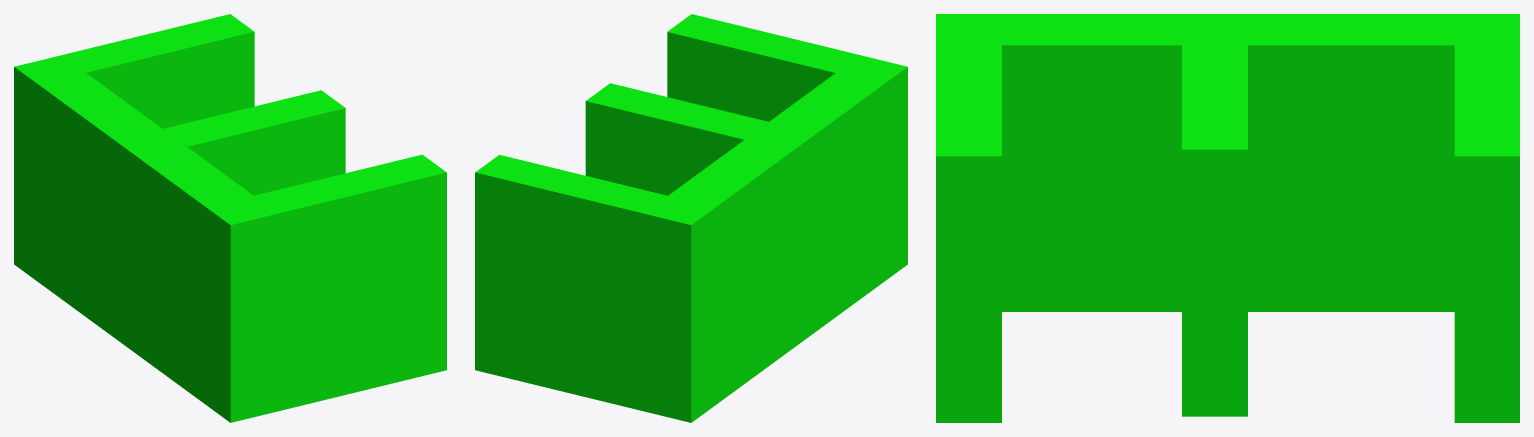
Rendered from Letter E1.obj.
3 views of the same model, side by side, from view 1: azimuth 30°, elevation 25°; view 2: azimuth 150°, elevation 25°; view 3: azimuth 270°, elevation 25° (orthographic). The views are drawn at different scales.
Visible parts, largest first — view 1: obj_0; view 2: obj_0; view 3: obj_0.
Part boxes in pixels (x1,y1,x2,y2): obj_0: (14, 14, 446, 422); obj_0: (475, 14, 907, 422); obj_0: (936, 14, 1519, 422).
Bounding box in the file's own units: 44.03 × 38.49 × 76.36.
